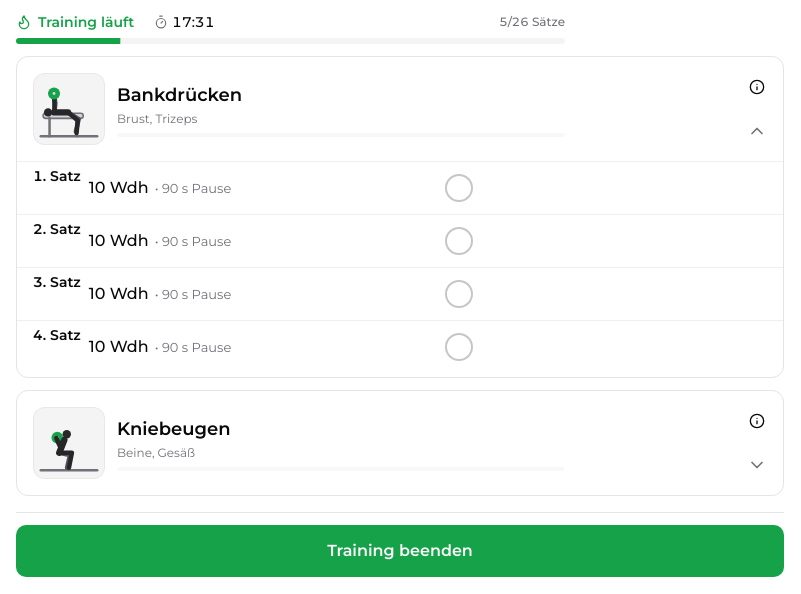
Scenario: ActiveWorkoutSession exercise expansion › closes everything when the open exercise is tapped again
Click the button named "Bankdrücken 0/4 Sätze" at x=757, y=131, box x1=735 y1=109 x2=779 y2=153
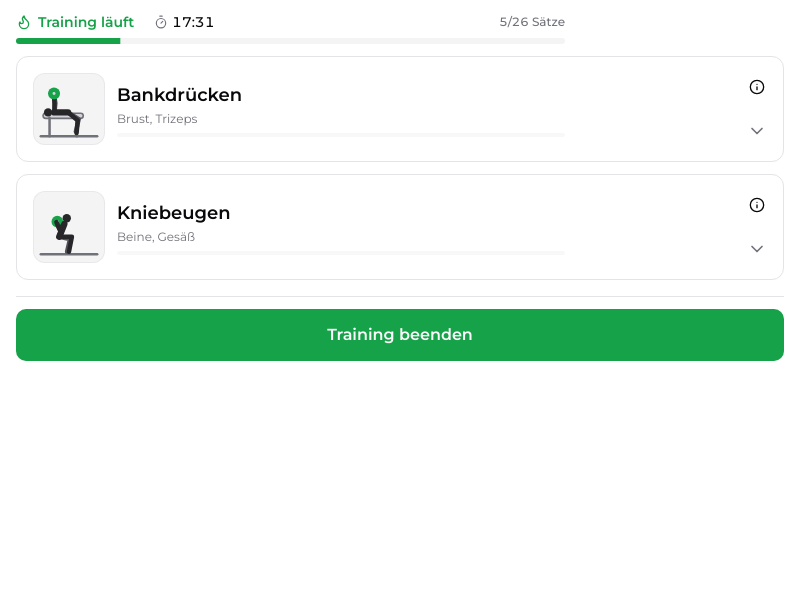
expect no checkboxes are shown: met
